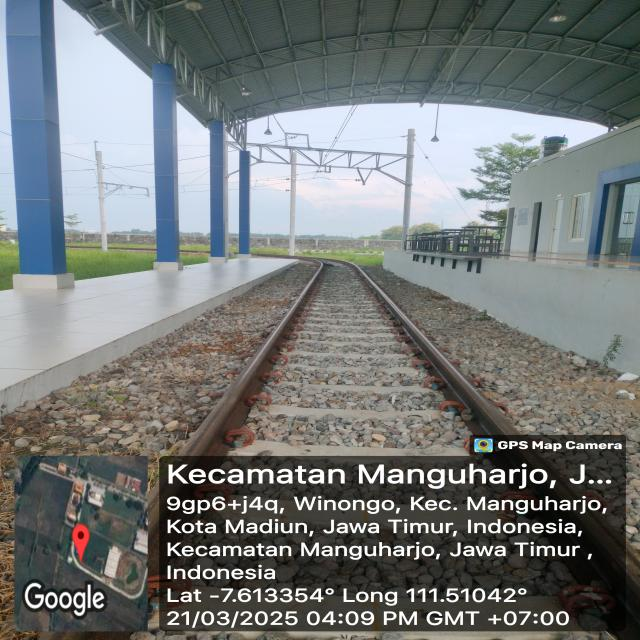rail-detection: (336, 261, 520, 435), (180, 261, 325, 455)
